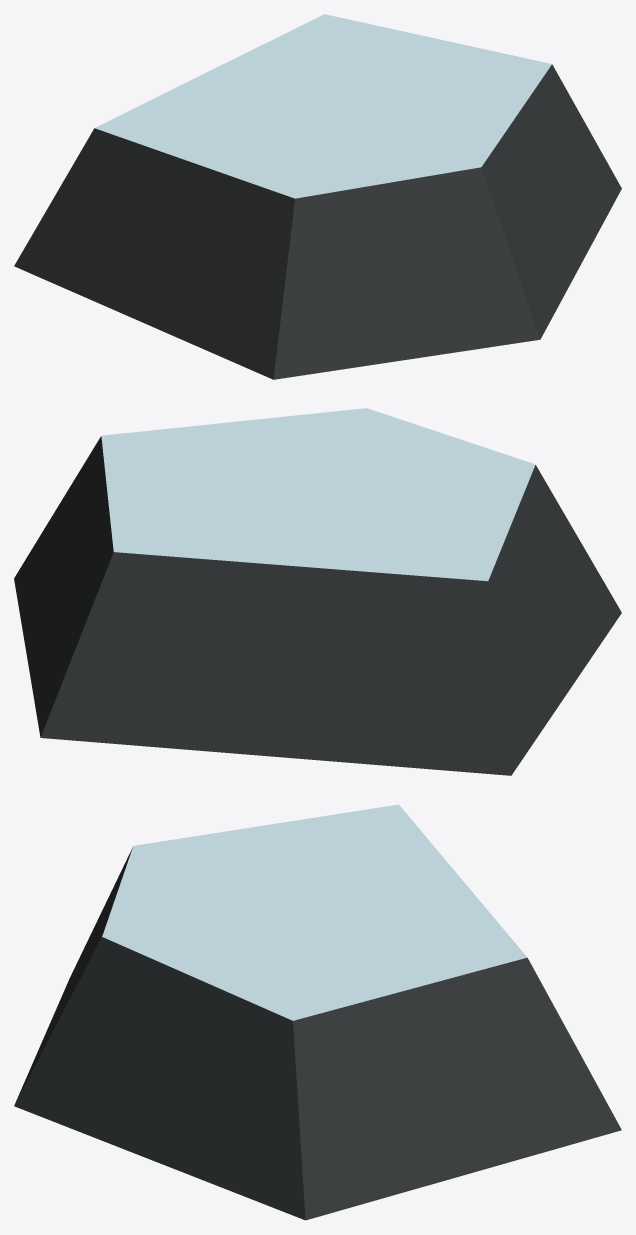
File: SM_Env_Generic_River_Stone_01_Snow.fbx
3 views of the same model, one above another, from view 1: azimuth 30°, elevation 25°; view 2: azimuth 150°, elevation 25°; view 3: azimuth 270°, elevation 25° (orthographic). The views are drawn at different scales.
Parts seen in each view (by area): view 1: SM_Env_Generic_River_Stone_01_Snow; view 2: SM_Env_Generic_River_Stone_01_Snow; view 3: SM_Env_Generic_River_Stone_01_Snow.
Boxes of the visible parts, x1,y1,x2,y2 form: SM_Env_Generic_River_Stone_01_Snow: (14, 14, 621, 379); SM_Env_Generic_River_Stone_01_Snow: (14, 408, 621, 775); SM_Env_Generic_River_Stone_01_Snow: (14, 804, 621, 1220).
Bounding box in the file's own units: 39.19 × 10.29 × 35.54.
1 material, 1 textured.
